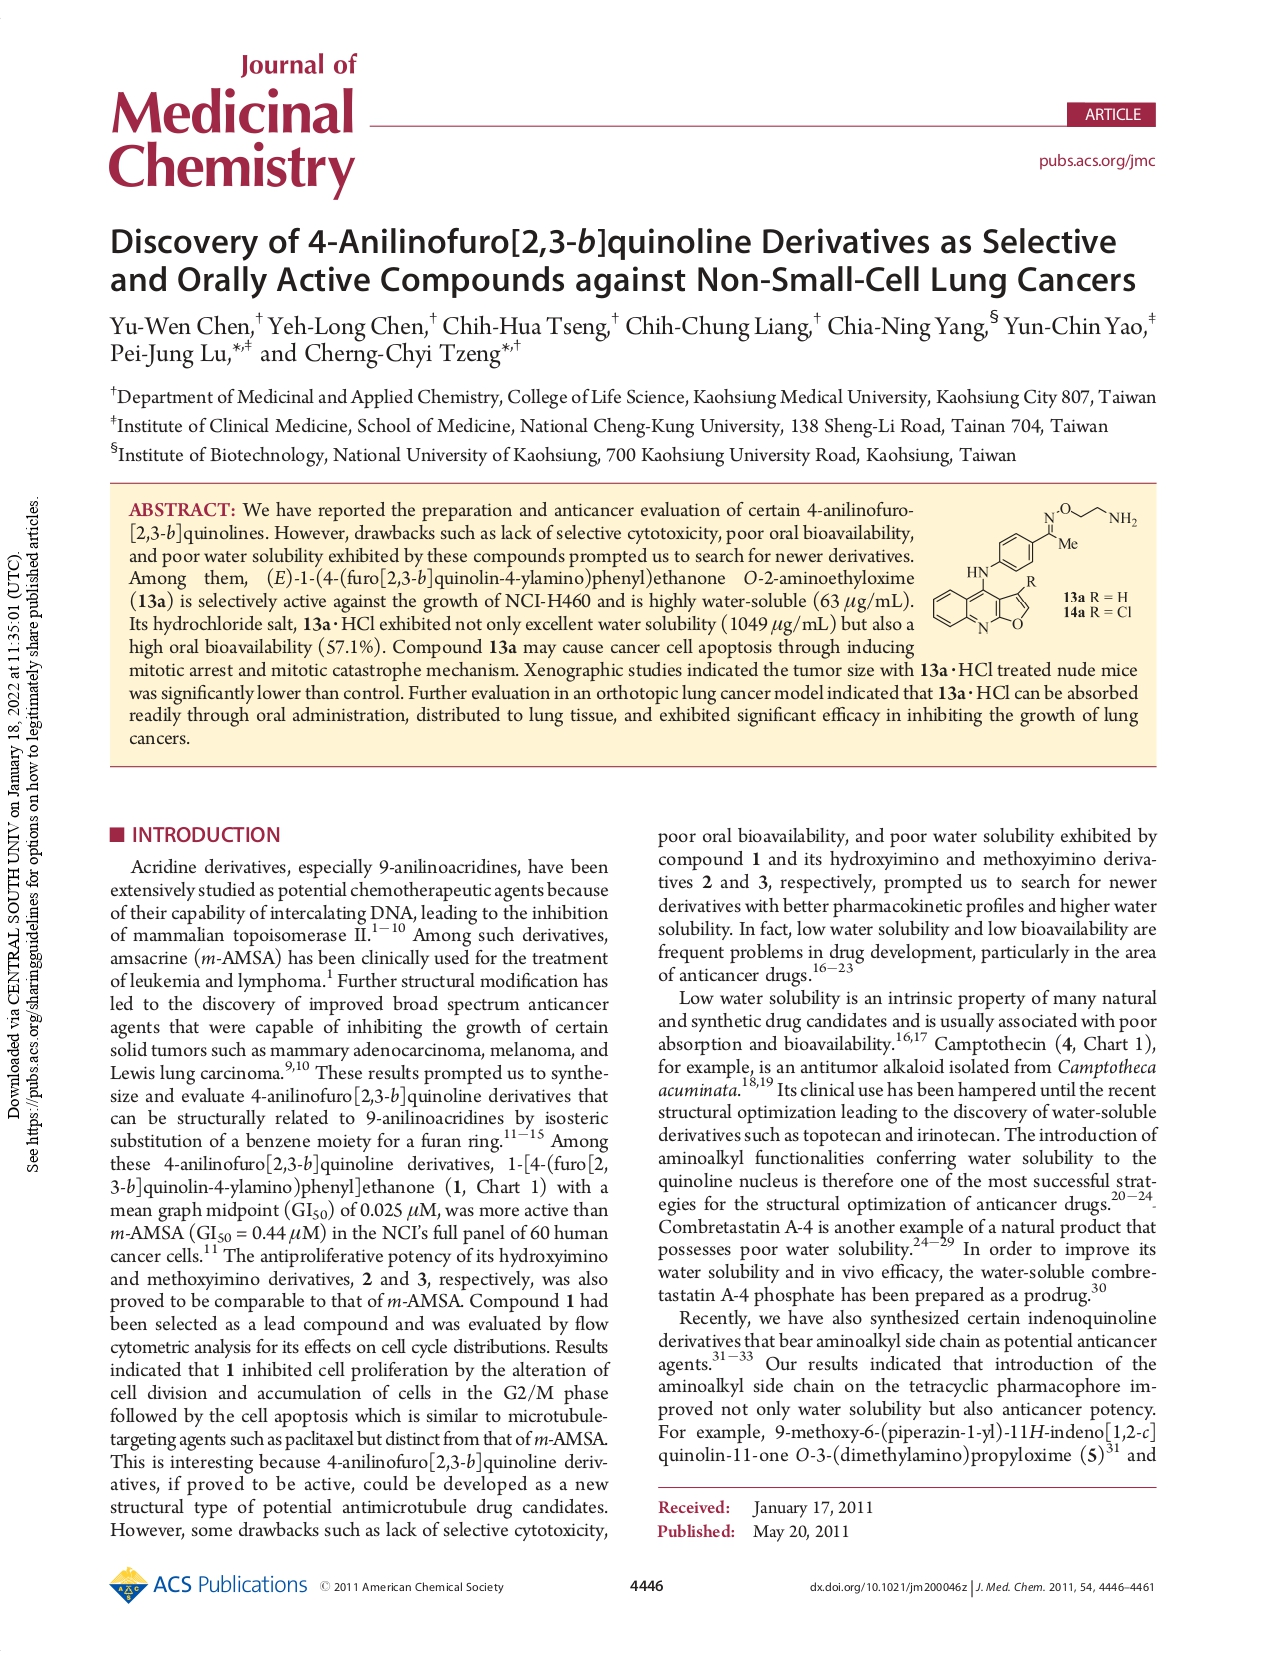exist_molecular: (927, 497, 1138, 634)
